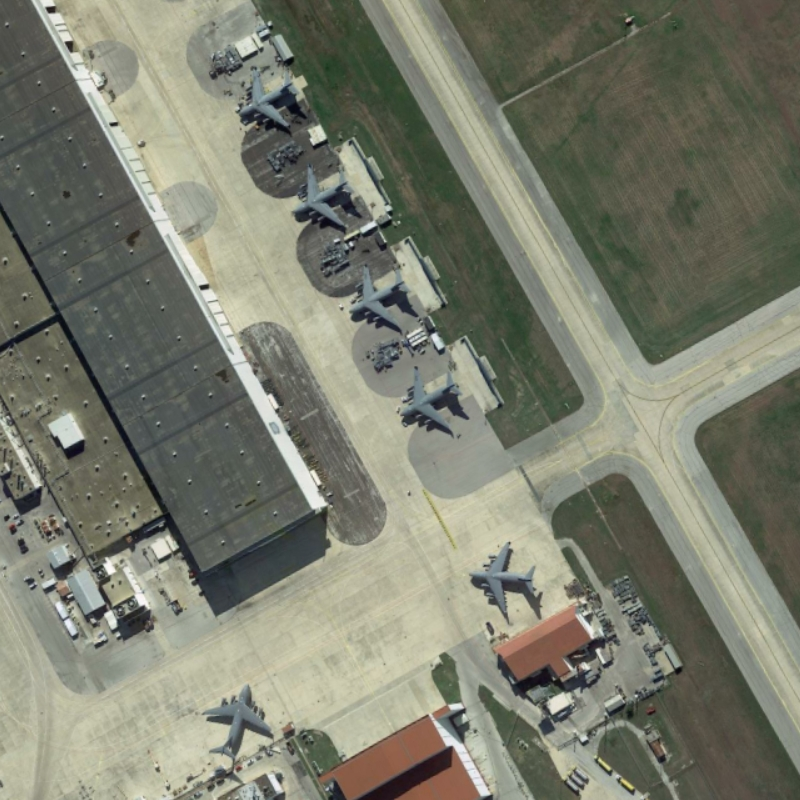A3: (465, 537, 545, 622), (198, 678, 274, 761), (394, 363, 470, 440), (286, 163, 365, 232), (343, 259, 413, 334), (236, 65, 303, 132)
